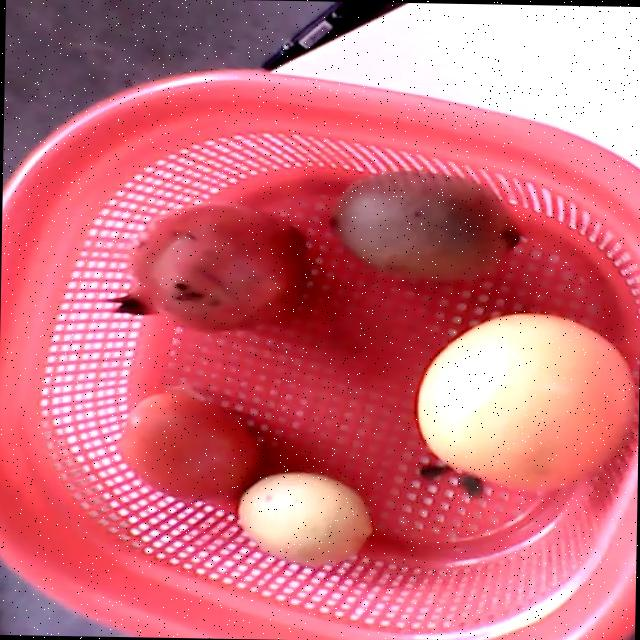kiwi: (327, 171, 520, 276)
lemon: (239, 471, 372, 564)
orange: (418, 312, 636, 489)
pomegranate: (106, 203, 307, 332)
tomato: (122, 391, 263, 501)
